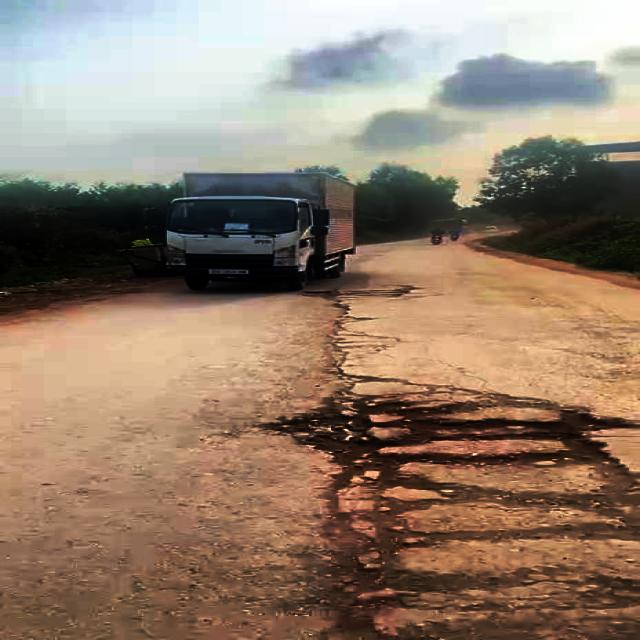pothole: (261, 380, 636, 516), (296, 511, 640, 640)
